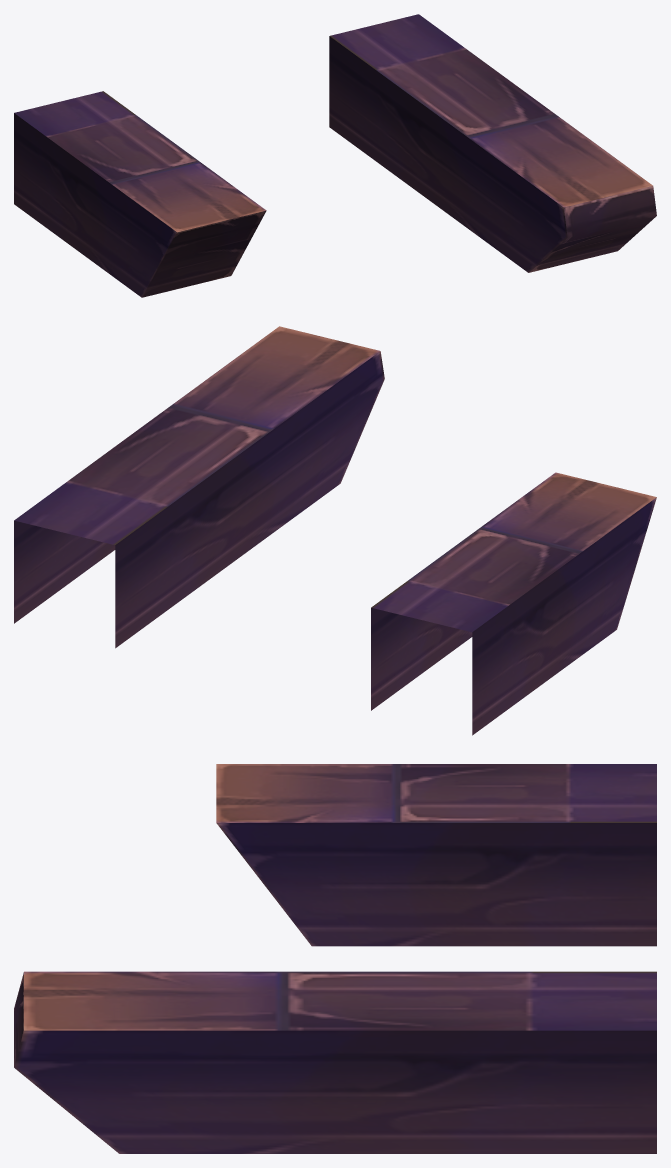
Rendered from scenes_town_roadbed01a.FBX.
The picture shows the model from 3 angles, top to bottom: view 1: azimuth 30°, elevation 25°; view 2: azimuth 150°, elevation 25°; view 3: azimuth 270°, elevation 25°; orthographic projection. The views are drawn at different scales.
Visible parts, largest first — view 1: scenes_town_roadbed01a; view 2: scenes_town_roadbed01a; view 3: scenes_town_roadbed01a.
Boxes of the visible parts, box(x1,y1,x2,y2) form: scenes_town_roadbed01a: box(14, 14, 656, 297); scenes_town_roadbed01a: box(14, 326, 656, 735); scenes_town_roadbed01a: box(14, 764, 656, 1153).
Bounding box in the file's own units: 439 × 94.58 × 447.
